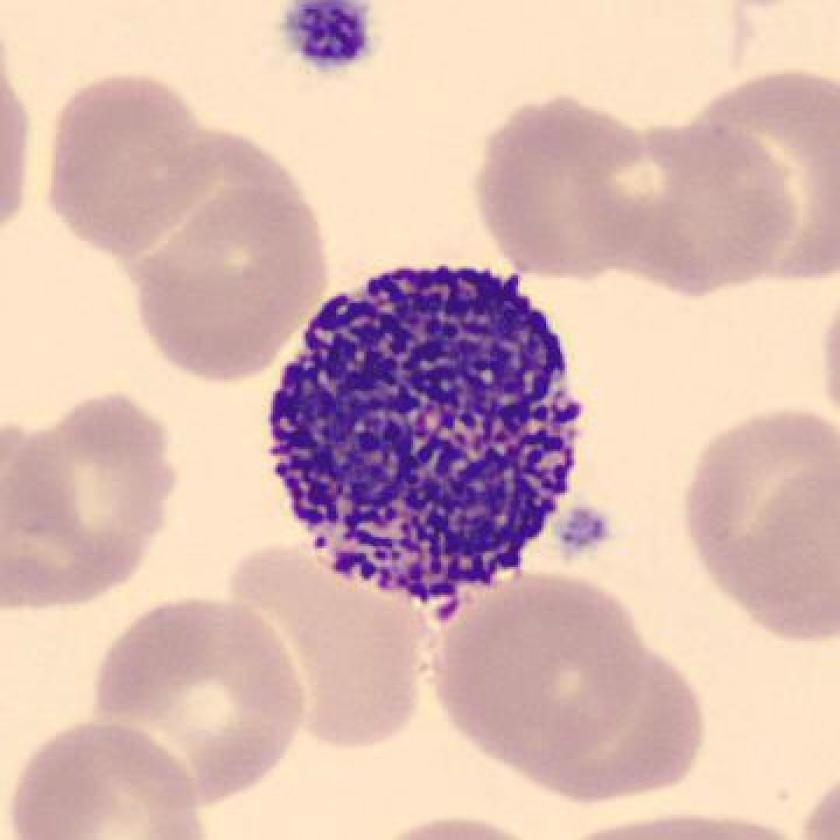basophil: (255, 249, 596, 612)
